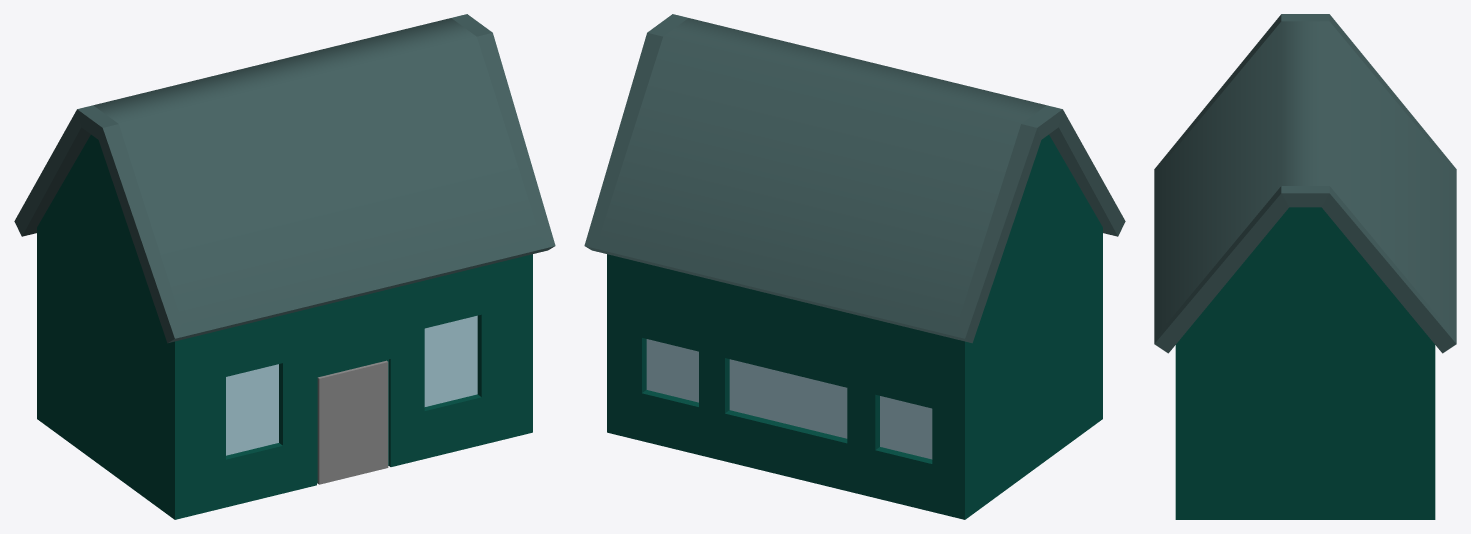
The model's file is M_House_01.FBX.
3 renders of one model, left to right at view 1: azimuth 30°, elevation 25°; view 2: azimuth 150°, elevation 25°; view 3: azimuth 270°, elevation 25°, orthographic. The views are drawn at different scales.
Parts seen in each view (by area): view 1: Box002; view 2: Box002; view 3: Box002.
Boxes of the visible parts, x1,y1,x2,y2 form: Box002: (14,14,555,519); Box002: (584,14,1125,519); Box002: (1154,14,1456,519).
Size of the model in its own units: 3.27 by 2.33 by 2.84.
